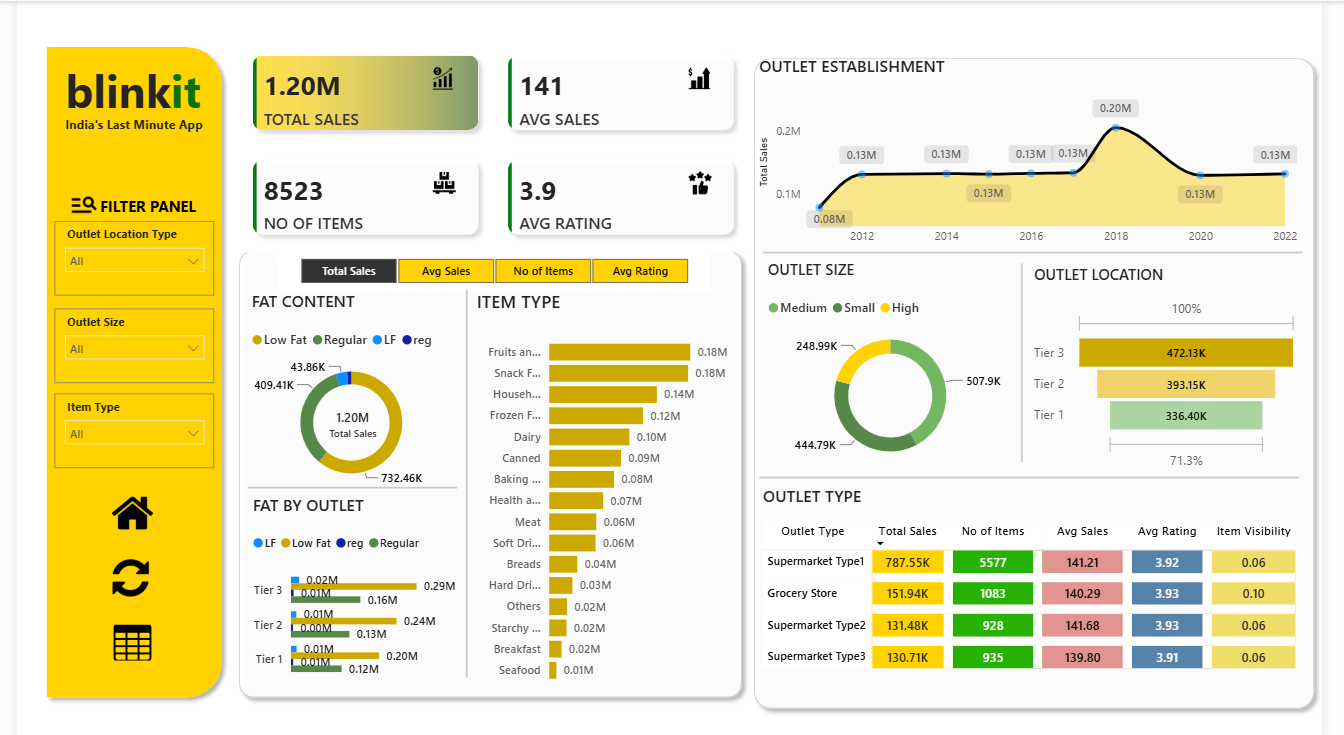

The dashboard page shown, as its layout file describes it:
{"tool":"powerbi","page":{"name":"Main Dashboard","canvas":[1400,800],"ordinal":0},"visuals":[{"type":"shape","box":[22.9,40,205.7,715.7],"z":0},{"type":"textbox","box":[47.1,57.1,157.1,92.9],"z":1000},{"type":"textbox","box":[47.1,118.6,171.4,31.4],"z":2000},{"type":"shape","box":[228.6,258.6,557.1,497.1],"z":3000},{"type":"donutChart","title":"FAT CONTENT","fields":{"Y":["BlinkIT Grocery Data.Total Sales"],"Category":["BlinkIT Grocery Data.Item Fat Content"]},"box":[247.1,310,224.3,221.4],"z":4000},{"type":"slicer","fields":{"Values":["Metrics.Metrics"]},"box":[278.6,270,465,40],"z":5000},{"type":"cardVisual","fields":{"Data":["BlinkIT Grocery Data.Total Sales"]},"box":[304.3,421.4,112.9,65.7],"z":6000},{"type":"clusteredBarChart","title":"FAT BY OUTLET","fields":{"Y":["BlinkIT Grocery Data.Total Sales"],"Category":["BlinkIT Grocery Data.Outlet Location Type"],"Series":["BlinkIT Grocery Data.Item Fat Content"]},"box":[248.6,528.6,228.6,212.9],"z":7000},{"type":"shape","box":[248.6,514.3,224.3,14.3],"z":8000},{"type":"shape","box":[475.7,310,12.9,415.7],"z":9000},{"type":"barChart","title":"ITEM TYPE","fields":{"Y":["BlinkIT Grocery Data.Total Sales"],"Category":["BlinkIT Grocery Data.Item Type"]},"box":[488.6,310,280,431.4],"z":10000},{"type":"shape","box":[781.5,52.3,618.6,715.7],"z":11000},{"type":"lineChart","title":"OUTLET ESTABLISHMENT","fields":{"Category":["BlinkIT Grocery Data.Outlet Establishment Year"],"Y":["BlinkIT Grocery Data.Total Sales"]},"box":[791.4,57.1,587.1,212.9],"z":12000},{"type":"shape","box":[800,264.3,578.6,11.4],"z":13000},{"type":"donutChart","title":"OUTLET SIZE","fields":{"Y":["BlinkIT Grocery Data.Total Sales"],"Category":["BlinkIT Grocery Data.Outlet Size"]},"box":[800,275.7,272.9,231.4],"z":14000},{"type":"shape","box":[1070,281.4,15.7,212.9],"z":15000},{"type":"funnel","title":"OUTLET LOCATION","fields":{"Y":["Sum(BlinkIT Grocery Data.Sales)"],"Category":["BlinkIT Grocery Data.Outlet Location Type"]},"box":[1085.7,281.4,292.9,225.7],"z":16000},{"type":"shape","box":[795.7,507.1,578.6,8.6],"z":17000},{"type":"pivotTable","title":"OUTLET TYPE","fields":{"Values":["BlinkIT Grocery Data.Total Sales","BlinkIT Grocery Data.No of Items","BlinkIT Grocery Data.Avg Sales","BlinkIT Grocery Data.Avg Rating","Avg(BlinkIT Grocery Data.Item Visibility)"],"Rows":["BlinkIT Grocery Data.Outlet Type"]},"box":[794.3,518.6,594.3,232.9],"z":18000},{"type":"slicer","fields":{"Values":["BlinkIT Grocery Data.Outlet Location Type"]},"box":[40,235.7,171.4,80],"z":19000},{"type":"slicer","fields":{"Values":["BlinkIT Grocery Data.Outlet Size"]},"box":[40,330,171.4,80],"z":20000},{"type":"slicer","fields":{"Values":["BlinkIT Grocery Data.Item Type"]},"box":[40,421.4,171.4,80],"z":21000},{"type":"textbox","box":[71.4,204.3,140,31.4],"z":22000},{"type":"actionButton","box":[101.4,525.7,44.3,47.1],"z":23000},{"type":"actionButton","box":[101.4,594.3,40,50],"z":24000},{"type":"actionButton","box":[101.4,668.6,44.3,38.6],"z":25000},{"type":"image","box":[55.7,204.3,31.4,31.4],"z":26000},{"type":"cardVisual","fields":{"Data":["BlinkIT Grocery Data.Total Sales","BlinkIT Grocery Data.Avg Sales","BlinkIT Grocery Data.No of Items","BlinkIT Grocery Data.Avg Rating"]},"box":[234.6,40.2,552.3,229.2],"z":27000}]}

Visuals, with their boxes on the page's 1400x800 design canvas (x1, y1, x2, y2). These are canvas units, not pixel positions in the 1344x735 screenshot, which may show the page scaled, cropped or inside an application window:
shape: bbox=(23, 40, 229, 756)
textbox: bbox=(47, 57, 204, 150)
textbox: bbox=(47, 119, 218, 150)
shape: bbox=(229, 259, 786, 756)
"FAT CONTENT" donutChart: bbox=(247, 310, 471, 531)
slicer - Metrics.Metrics: bbox=(279, 270, 744, 310)
cardVisual - BlinkIT Grocery Data.Total Sales: bbox=(304, 421, 417, 487)
"FAT BY OUTLET" clusteredBarChart: bbox=(249, 529, 477, 742)
shape: bbox=(249, 514, 473, 529)
shape: bbox=(476, 310, 489, 726)
"ITEM TYPE" barChart: bbox=(489, 310, 769, 741)
shape: bbox=(782, 52, 1400, 768)
"OUTLET ESTABLISHMENT" lineChart: bbox=(791, 57, 1378, 270)
shape: bbox=(800, 264, 1379, 276)
"OUTLET SIZE" donutChart: bbox=(800, 276, 1073, 507)
shape: bbox=(1070, 281, 1086, 494)
"OUTLET LOCATION" funnel: bbox=(1086, 281, 1379, 507)
shape: bbox=(796, 507, 1374, 516)
"OUTLET TYPE" pivotTable: bbox=(794, 519, 1389, 752)
slicer - BlinkIT Grocery Data.Outlet Location Type: bbox=(40, 236, 211, 316)
slicer - BlinkIT Grocery Data.Outlet Size: bbox=(40, 330, 211, 410)
slicer - BlinkIT Grocery Data.Item Type: bbox=(40, 421, 211, 501)
textbox: bbox=(71, 204, 211, 236)
actionButton: bbox=(101, 526, 146, 573)
actionButton: bbox=(101, 594, 141, 644)
actionButton: bbox=(101, 669, 146, 707)
image: bbox=(56, 204, 87, 236)
cardVisual - BlinkIT Grocery Data.Total Sales x BlinkIT Grocery Data.Avg Sales: bbox=(235, 40, 787, 269)
